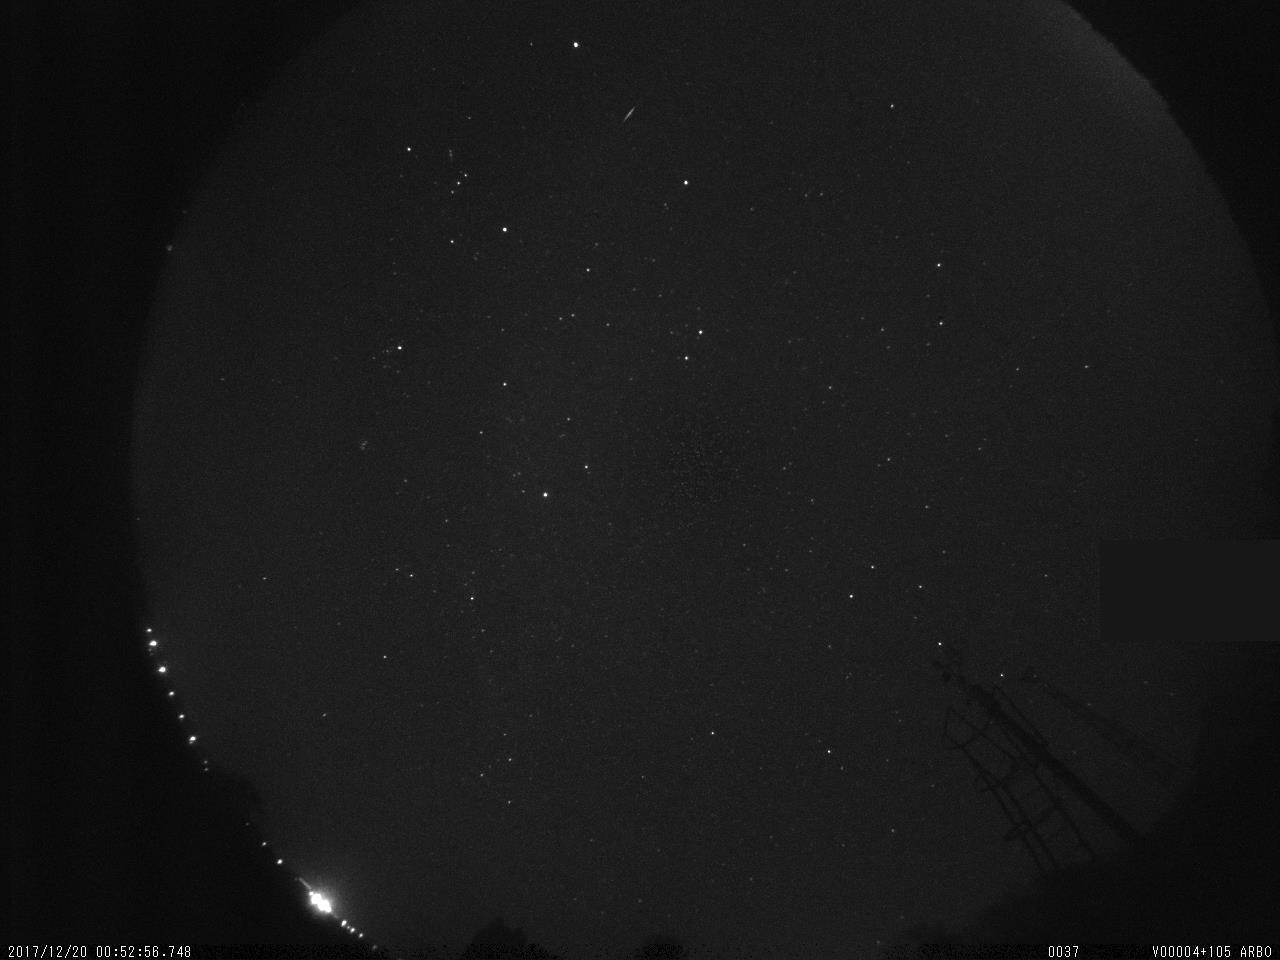meteor: (606, 91, 652, 130)
